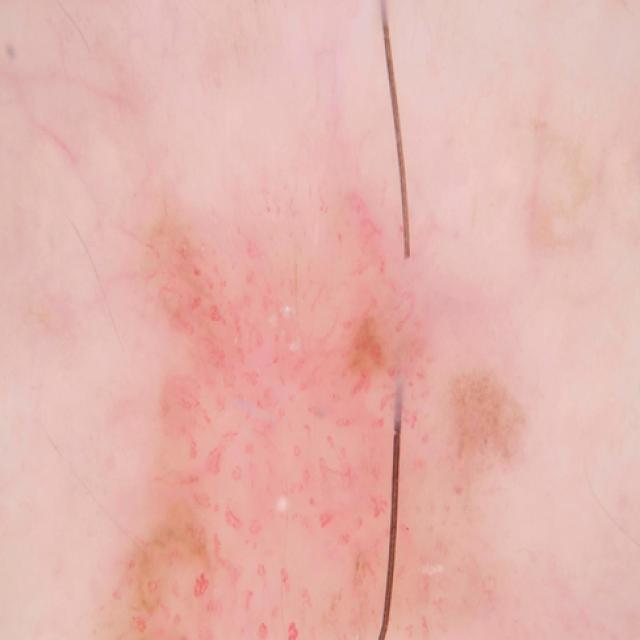Carcinoma: (63, 171, 580, 640)
